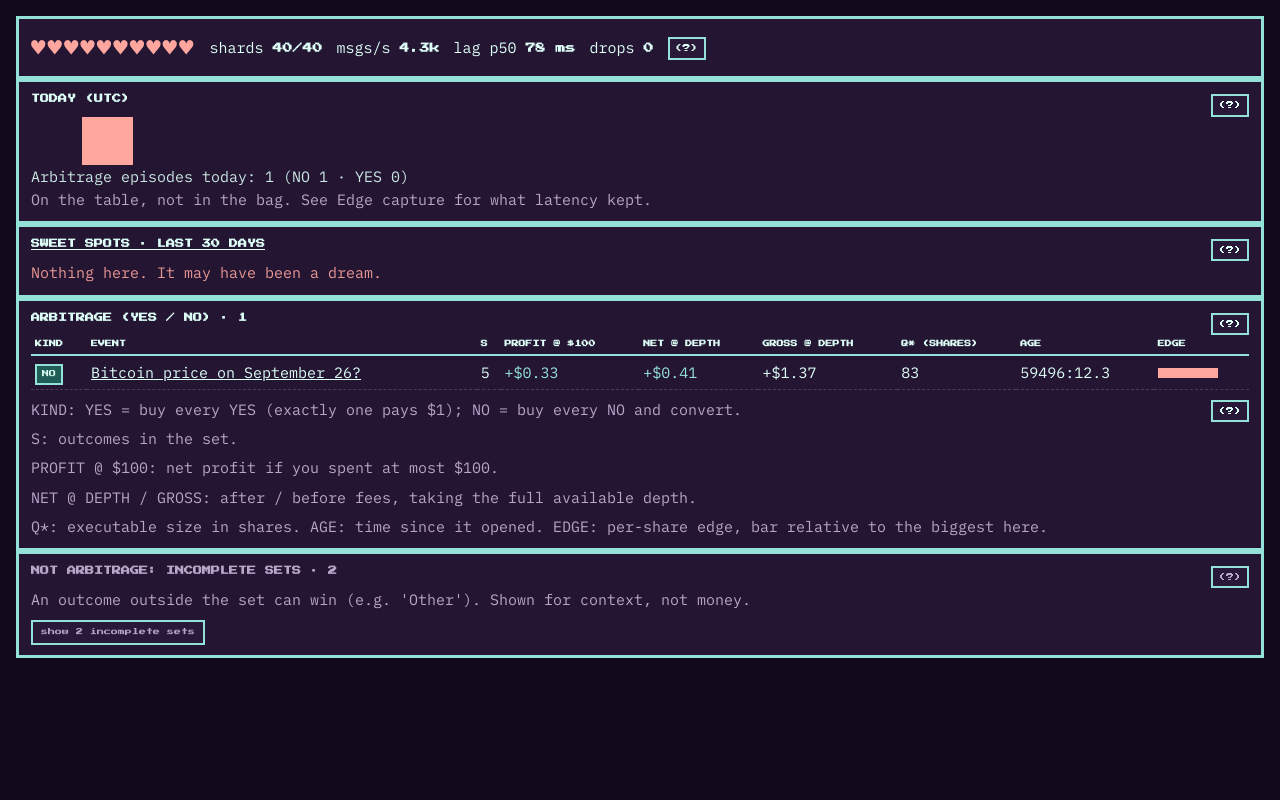
Test: Radar › splits incomplete sets into their own dimmed section, collapsed behind a toggle with the count
Expected: the heading "ARBITRAGE (YES / NO) · 1" is shown, [31,313,247,322]
Expected: the text "An outcome outside the set can win (e.g. 'Other'). Shown for context, not money." is shown, [31,590,751,609]
Click the button "show 2 incomplete sets" at (118, 632), box [31,620,205,644]
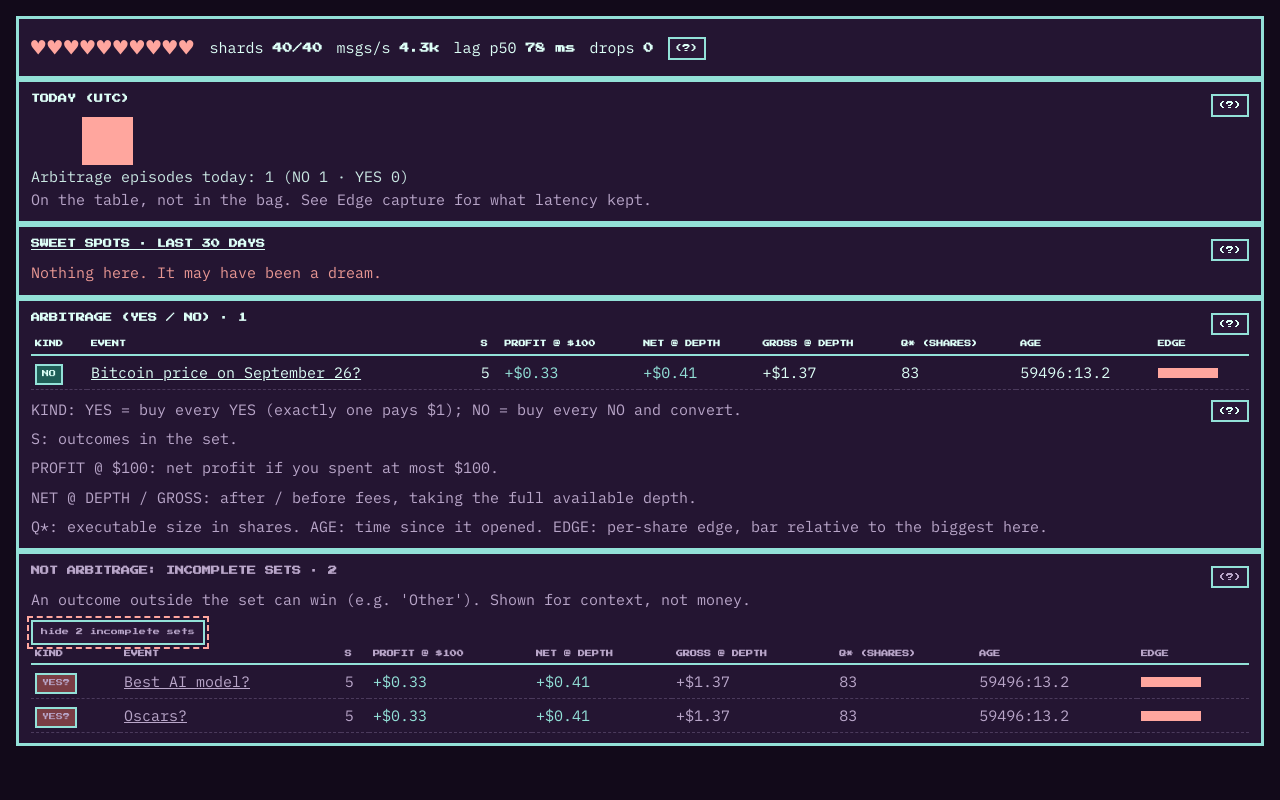
Now the link "Best AI model?" is shown, box [124,672,250,691]
Now the link "Oscars?" is shown, box [124,706,187,725]
Now the button "hide 2 incomplete sets" is expanded, box [31,620,205,644]
